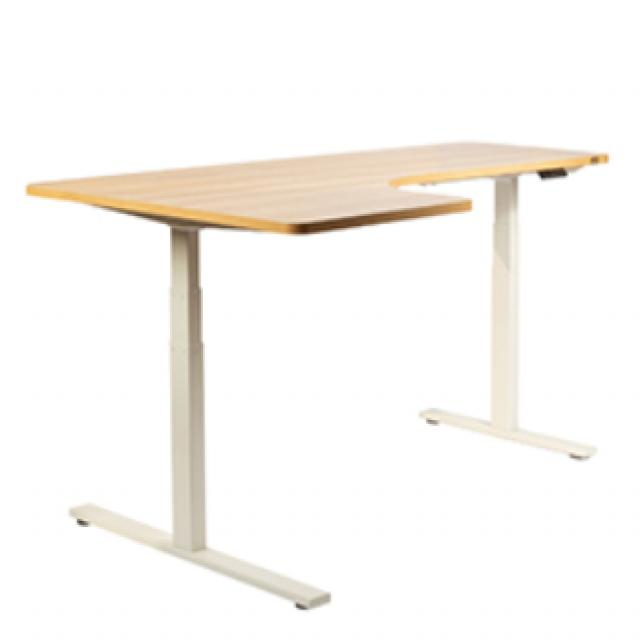table: (15, 125, 620, 618)
